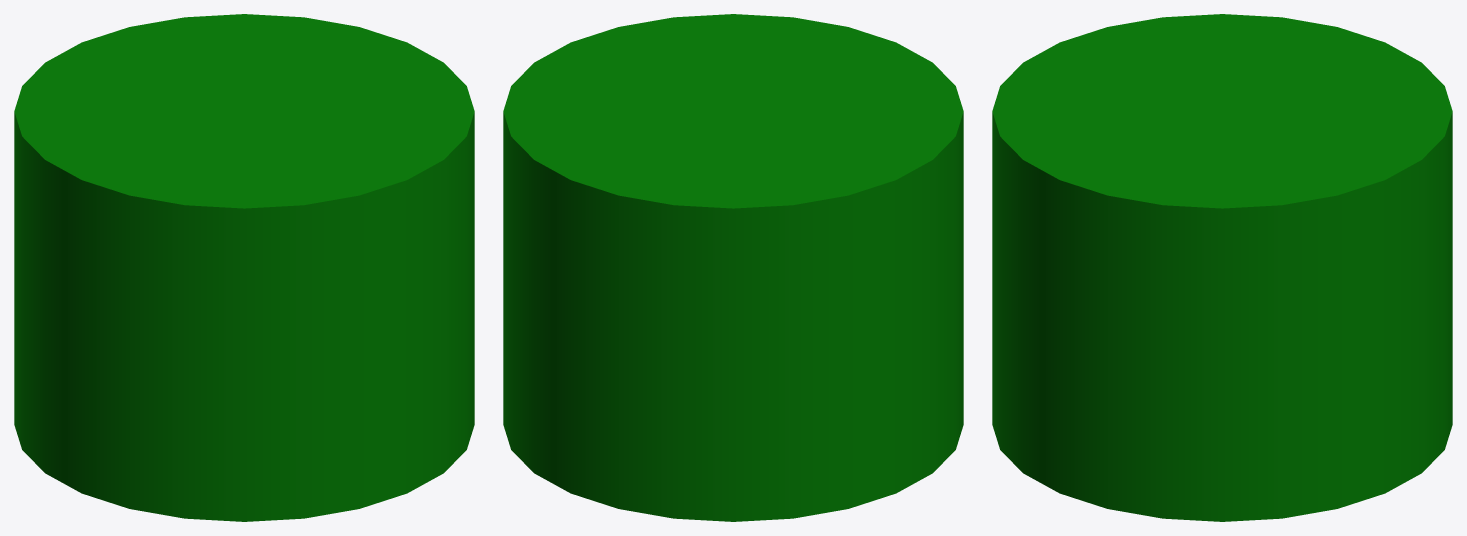
The model's file is GreenCylinder.dae.
3 views of the same model, side by side, from view 1: azimuth 30°, elevation 25°; view 2: azimuth 150°, elevation 25°; view 3: azimuth 270°, elevation 25° (orthographic).
Parts seen in each view (by area): view 1: SketchUp; view 2: SketchUp; view 3: SketchUp.
Part boxes in pixels (bbox=[...]): SketchUp: bbox=[14, 14, 474, 521]; SketchUp: bbox=[503, 14, 963, 521]; SketchUp: bbox=[992, 14, 1452, 521].
Bounding box in the file's own units: 25.62 × 25.62 × 19.25.
